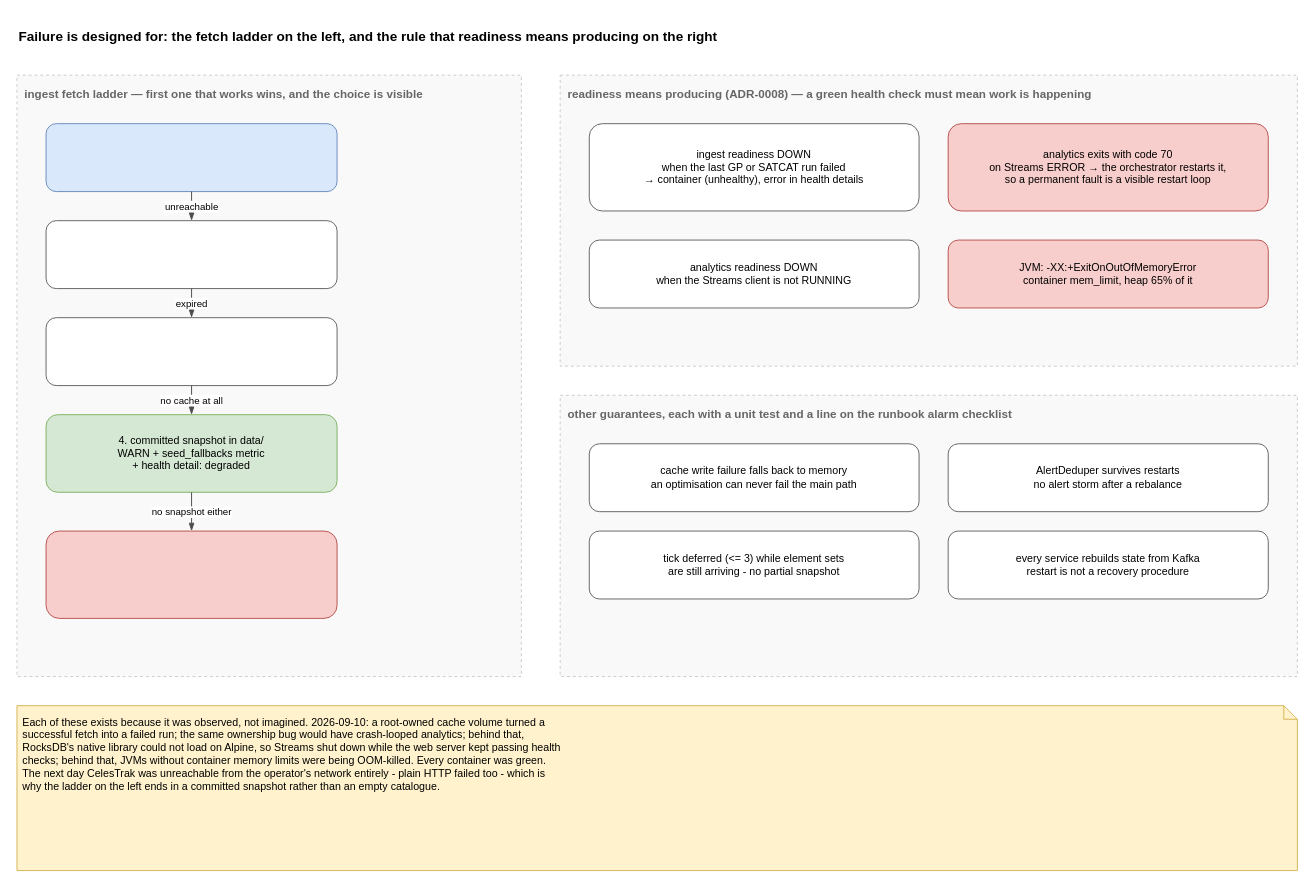
This 1314x888 diagram has some shape labels left out. Here are the shapes that lost their labels. From the top down, the centre of each, then its label:
At point 191,157: "1. live fetch from CelesTrak HTTP/1.1, 3 attempts, backoff".
At point 191,254: "2. cache, if inside the 2 h provider minimum interval".
At point 191,351: "3. stale cache WARN + fetch_failures metric".
At point 191,574: "5. fail the run readiness DOWN, error on the ops topic, container unhealthy".
